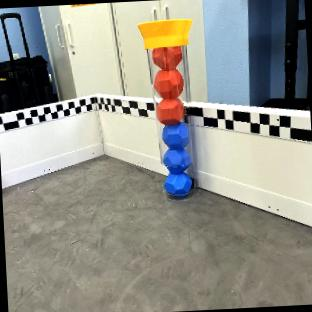V5_BLUE: (161, 121, 192, 196), (164, 170, 191, 196)
V5_RED: (153, 64, 183, 98), (155, 94, 185, 123), (151, 45, 182, 69)
